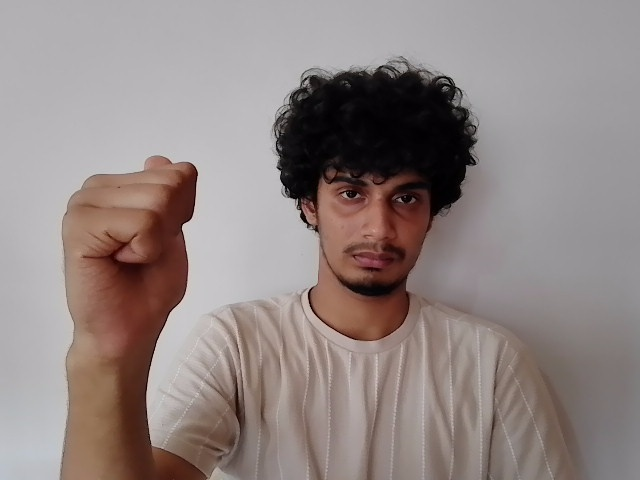how: (54, 153, 194, 326)
